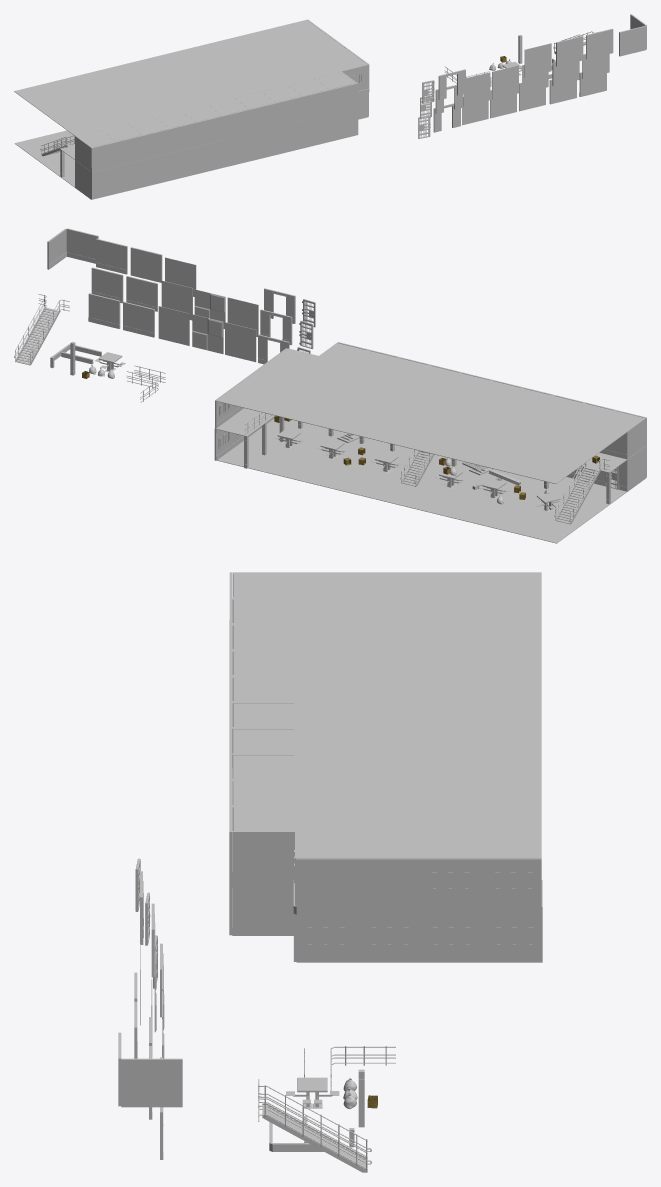
File: Modular real.fbx
3 views of the same model, one above another, from view 1: azimuth 30°, elevation 25°; view 2: azimuth 150°, elevation 25°; view 3: azimuth 270°, elevation 25° (orthographic). The views are drawn at different scales.
Parts seen in each view (by area): view 1: polySurface566, pCube335, polySurface600, pCube180, pCube169, pCube183, pCube182, pCube337, pCube177, pCube20, polySurface377, polySurface365 (+49 smaller); view 2: polySurface566, polySurface600, pCube337, pCube336, pCube335, pCube290, pCube180, polySurface189, polySurface410, polySurface381, pCube30, pCube29 (+41 smaller); view 3: polySurface566, polySurface600, pCube335, pCube334, pCube180, polySurface189, polySurface379, pCube350, pCube349, pCube214, pCube351, pCube213 (+25 smaller).
Boxes of the visible parts, x1,y1,x2,y2 form: polySurface566: (71, 42, 367, 129); pCube335: (75, 71, 357, 171); polySurface600: (14, 20, 321, 102); pCube180: (619, 14, 646, 56); pCube169: (524, 43, 551, 77); pCube183: (492, 65, 518, 99); pCube182: (463, 72, 490, 106); pCube337: (14, 130, 74, 154); pCube177: (586, 28, 613, 59); pCube20: (556, 36, 583, 66); polySurface377: (331, 111, 358, 141); polySurface365: (251, 131, 278, 160); polySurface566: (252, 349, 595, 449); polySurface600: (216, 388, 573, 483); pCube337: (217, 447, 574, 543); pCube336: (235, 434, 592, 530); pCube335: (319, 342, 646, 459); pCube290: (253, 421, 455, 479); pCube180: (47, 228, 98, 269); polySurface189: (14, 294, 69, 365); polySurface410: (554, 458, 610, 524); polySurface381: (566, 450, 645, 491); pCube30: (192, 314, 223, 353); pCube29: (158, 306, 189, 345); polySurface566: (296, 598, 419, 858); polySurface600: (480, 572, 541, 858); pCube335: (229, 572, 296, 880); pCube334: (296, 858, 418, 906); pCube180: (118, 1032, 182, 1107); polySurface189: (258, 1079, 371, 1172); polySurface379: (232, 887, 293, 935); pCube350: (480, 858, 541, 906); pCube349: (481, 915, 542, 962); pCube214: (294, 914, 358, 962); pCube351: (418, 858, 480, 906); pCube213: (358, 915, 419, 962).
Bounding box in the file's own units: 6946 × 870 × 2416.
